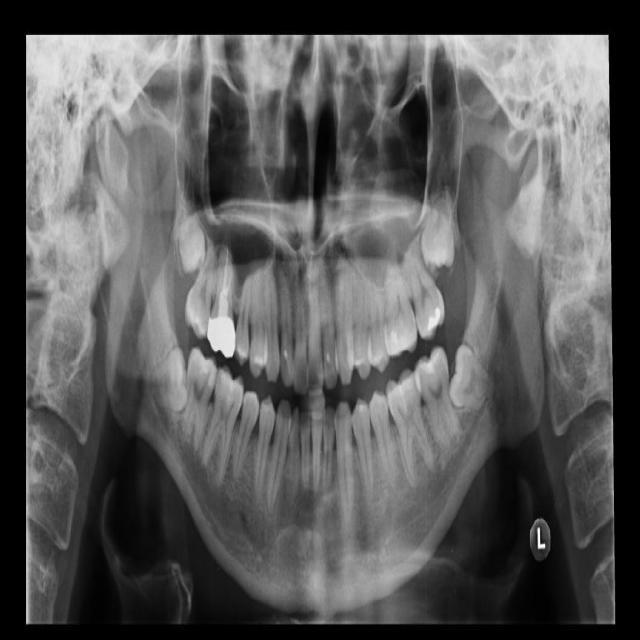3M ESPE Implant: (176, 211, 208, 276)
52: (408, 285, 455, 345), (408, 343, 454, 400), (382, 365, 426, 422), (184, 346, 221, 395), (385, 312, 418, 358), (215, 364, 243, 411), (207, 315, 236, 359), (350, 396, 370, 435), (249, 339, 268, 379), (324, 351, 338, 391), (234, 331, 249, 367), (281, 348, 292, 388)
73: (210, 224, 235, 326), (612, 603, 620, 609)
BioHorizons Implant: (394, 218, 453, 345)
BioLife Implant: (419, 189, 456, 269)
Biomet 3i Implant: (445, 342, 501, 414)
Caries: (179, 223, 227, 341)
Implant: (177, 344, 221, 459)
Keystone Dental Implant: (150, 346, 188, 411)
